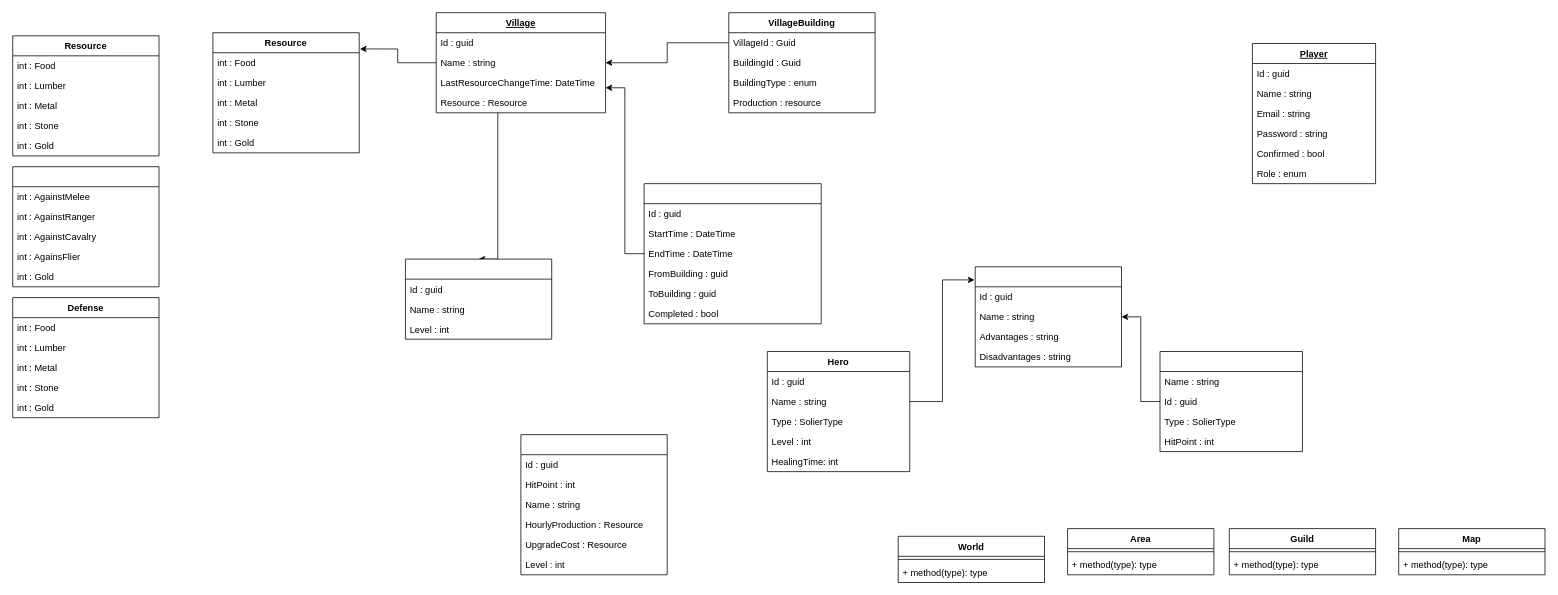
This 1558x595 diagram has some shape labels left out. The box of each missing label's shape, as (x1, y1, x2, y2) in pixels:
Attack: (12, 166, 159, 287)
Faction: (974, 266, 1122, 367)
ResourceBuilding: (520, 434, 667, 575)
Soldier: (1159, 351, 1302, 452)
VillageSoldier: (405, 258, 552, 339)
VillageUpgradeQueue: (643, 183, 821, 324)
